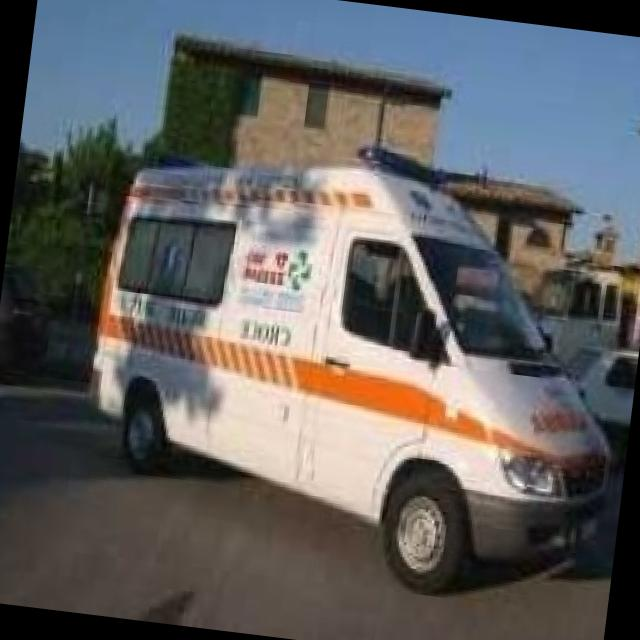ambulance: (0, 84, 582, 640)
